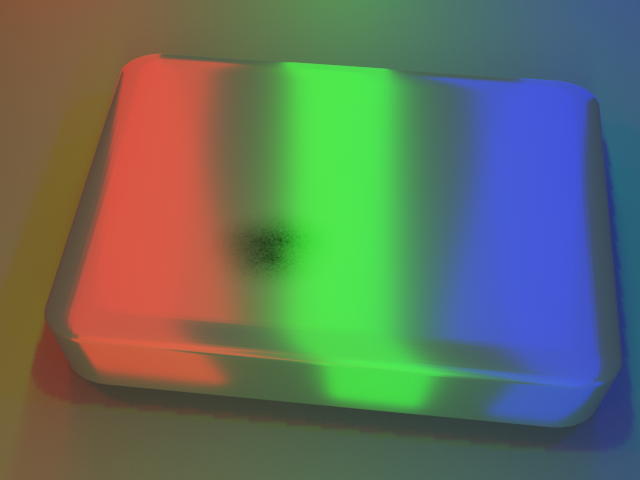stain: (139, 186, 377, 328)
